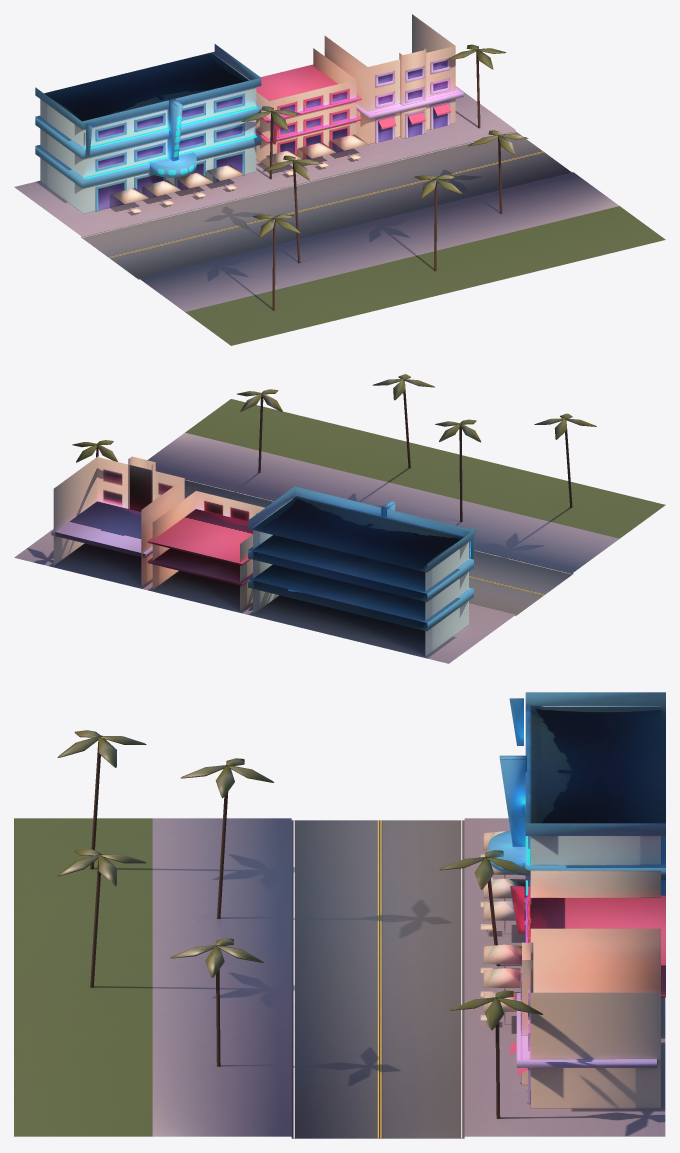
The model's file is roadBuildingVOne.glb.
The picture shows the model from 3 angles, top to bottom: view 1: azimuth 30°, elevation 25°; view 2: azimuth 150°, elevation 25°; view 3: azimuth 270°, elevation 25°; orthographic projection. The views are drawn at different scales.
Visible parts, largest first — view 1: buildingOne.001; view 2: buildingOne.001; view 3: buildingOne.001.
Boxes of the visible parts, bbox=[...] form: buildingOne.001: bbox=[14, 14, 665, 345]; buildingOne.001: bbox=[14, 374, 665, 663]; buildingOne.001: bbox=[14, 692, 665, 1138].
Size of the model in its own units: 60 by 13.43 by 51.94.
1 material, 1 textured.
